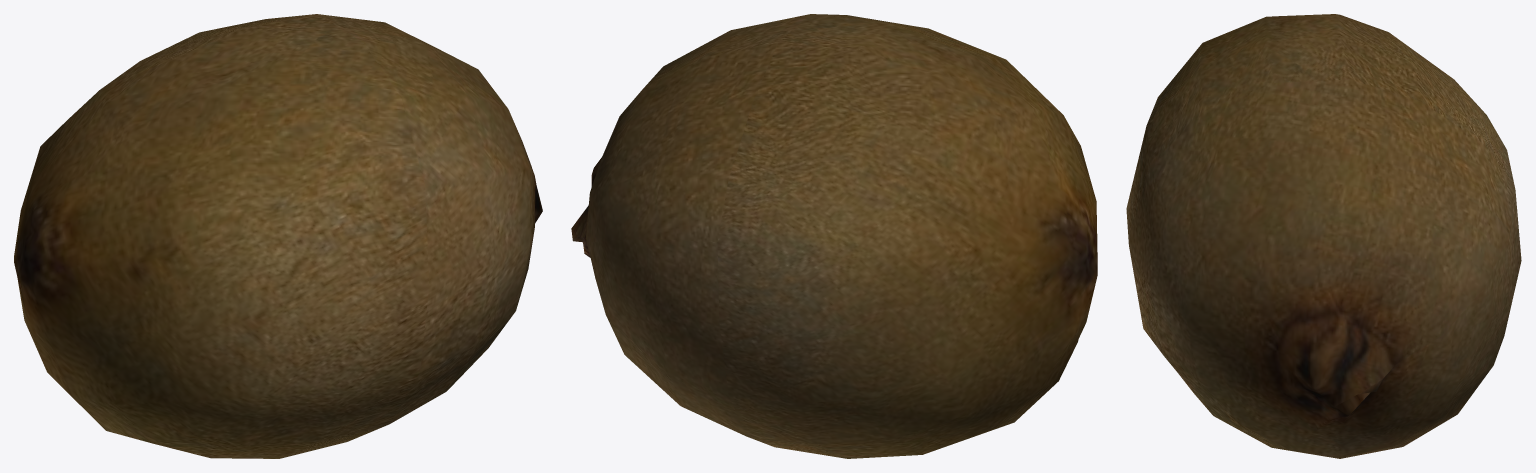
The model's file is A50_Kiwi_low.fbx.
The picture shows the model from 3 angles, left to right: view 1: azimuth 30°, elevation 25°; view 2: azimuth 150°, elevation 25°; view 3: azimuth 270°, elevation 25°; orthographic projection. The views are drawn at different scales.
Visible parts, largest first — view 1: A50_Kiwi_low; view 2: A50_Kiwi_low; view 3: A50_Kiwi_low.
Boxes of the visible parts, box(x1,y1,x2,y2) form: A50_Kiwi_low: box(14, 14, 542, 458); A50_Kiwi_low: box(571, 14, 1097, 458); A50_Kiwi_low: box(1126, 14, 1521, 458).
Size of the model in its own units: 7.16 by 5.14 by 5.44.
1 material, 1 textured.
